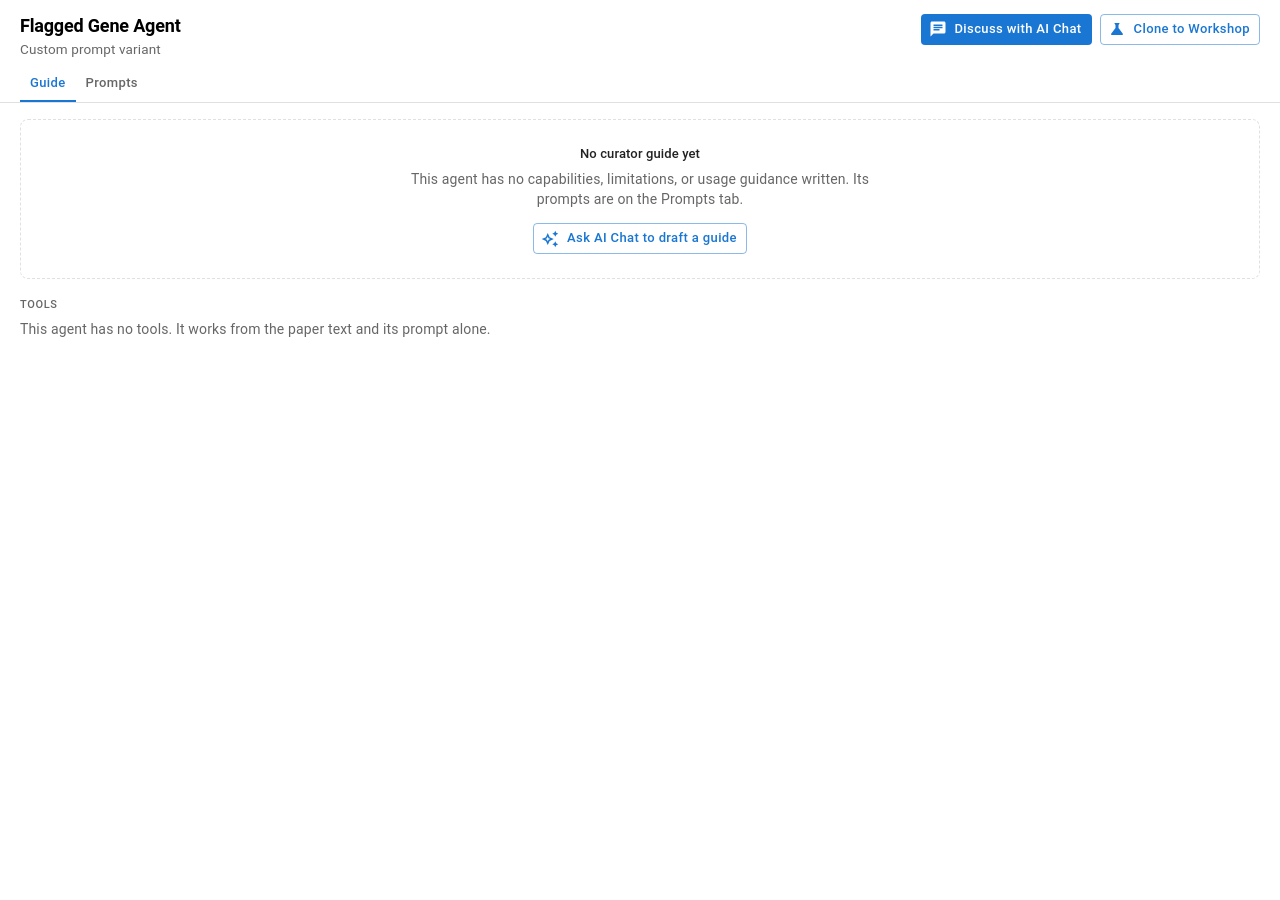
AgentDetailsPanel › marks flagged custom prompt text and excludes it from the effective view
Click the tab "Prompts" at (112, 84), box [76,66,148,102]
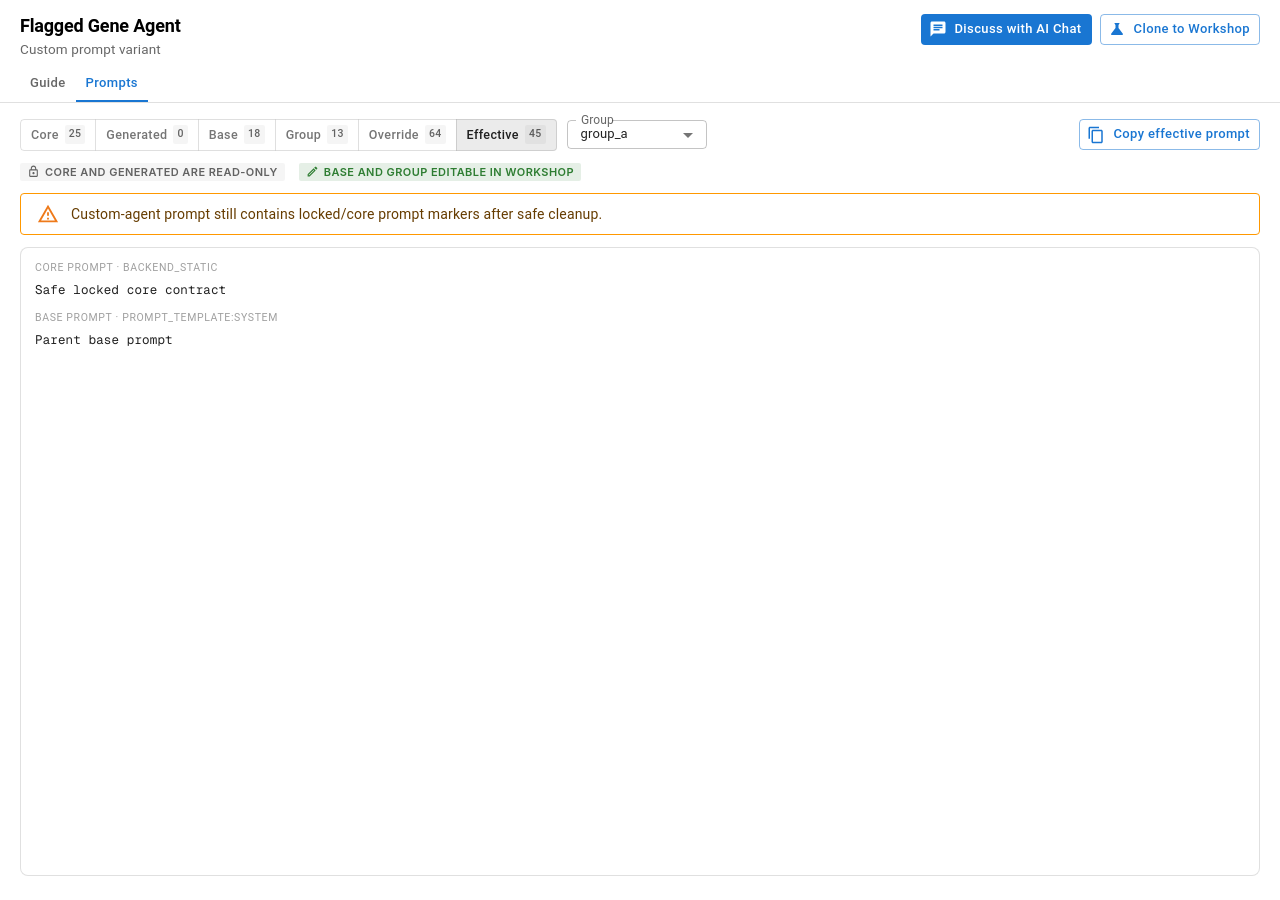
Check: the text "Custom-agent prompt still contains locked/core prompt markers after safe cleanup." is shown, box [71,206,602,222]
Check: the element with test id "prompt-reading-pane" shows "Safe locked core contract", box [35,281,226,298]
Check: the element with test id "prompt-reading-pane" shows "Parent base prompt", box [35,331,173,348]
Click the button "Override 64" at (407, 135), box [358,119,457,150]
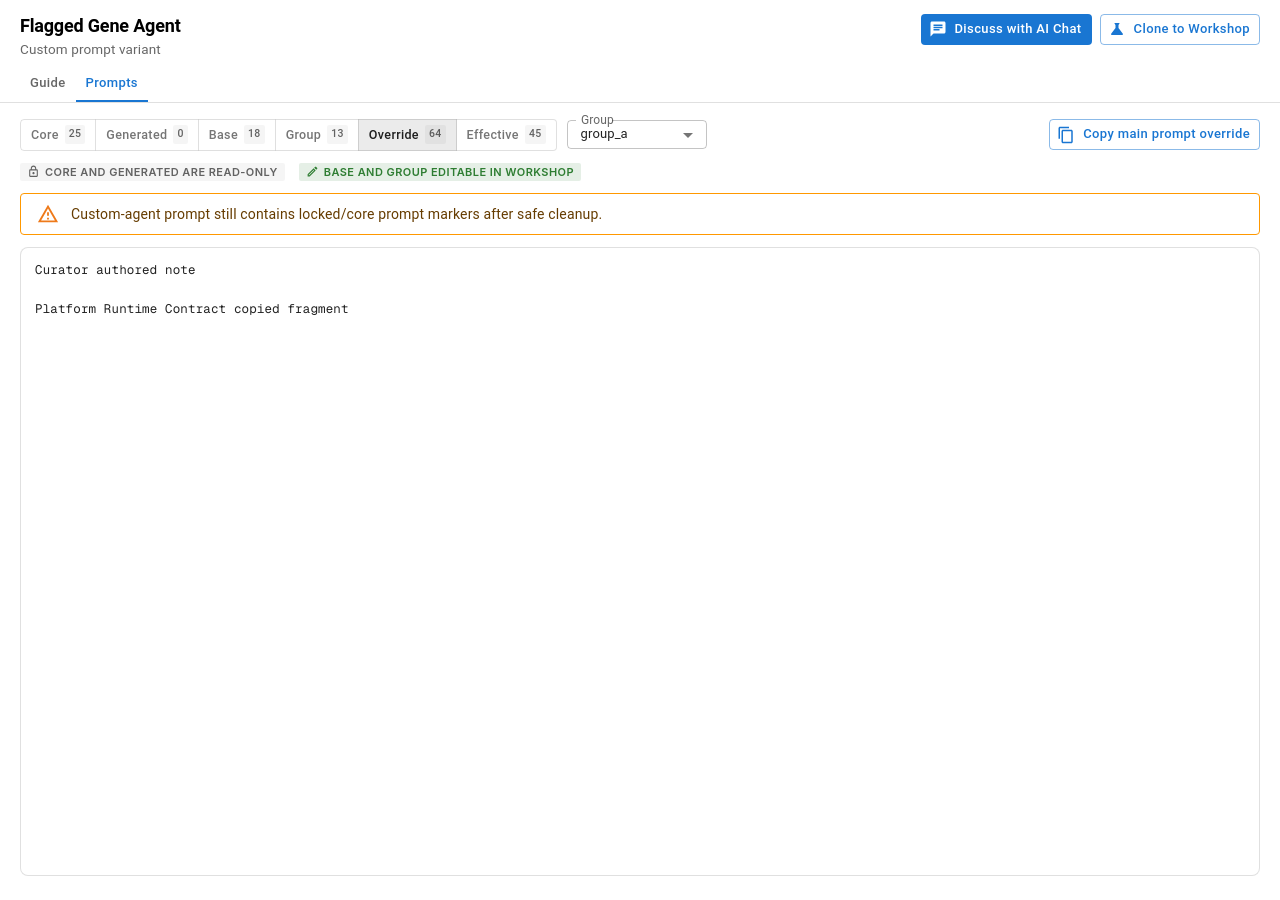
Check: the text with test id "prompt-reading-pane" shows "Platform Runtime Contract copied fragment", box [35,261,349,317]
